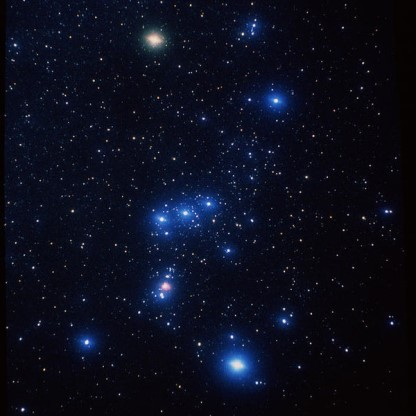Orion: (220, 345, 262, 393), (138, 22, 174, 61), (258, 83, 292, 121), (74, 324, 103, 360), (146, 198, 171, 235), (171, 194, 194, 228), (194, 191, 219, 218)
